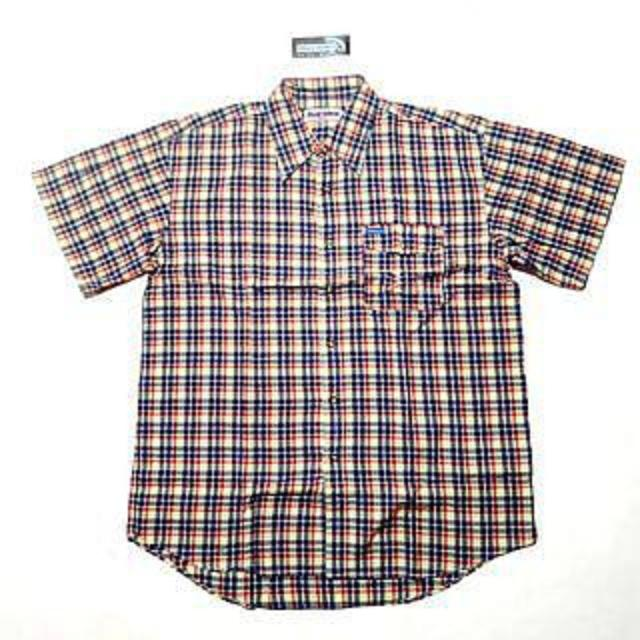SHIRT: (16, 66, 640, 617)
